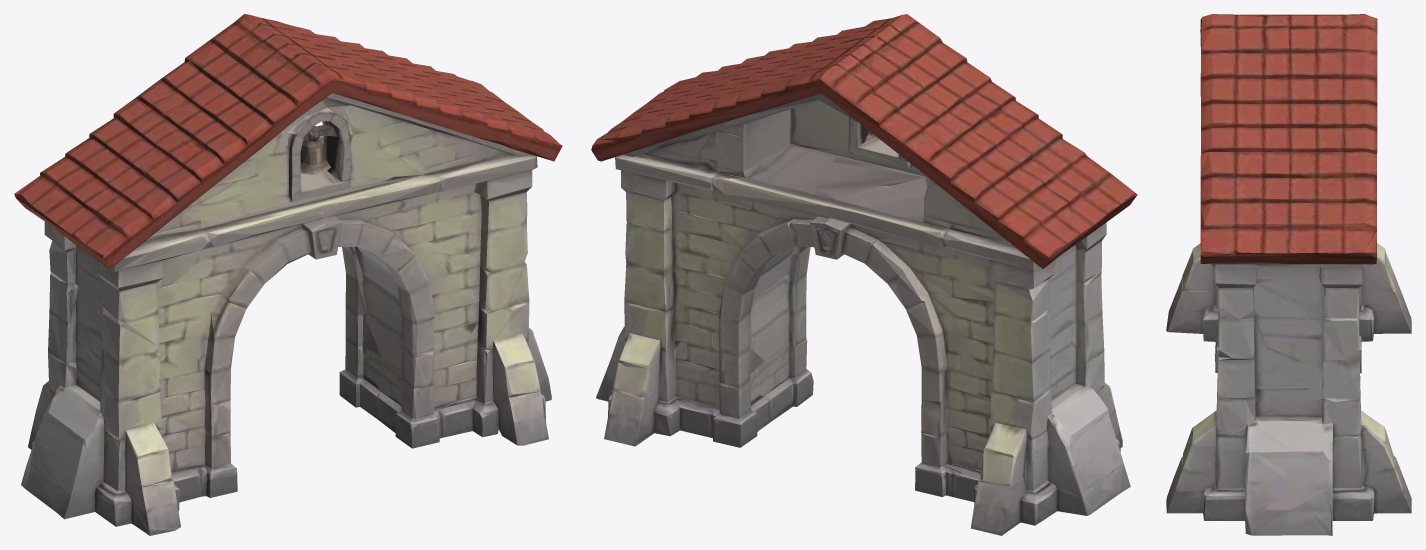
Rendered from oc_abbey_gate.glb.
The picture shows the model from 3 angles, left to right: view 1: azimuth 30°, elevation 25°; view 2: azimuth 150°, elevation 25°; view 3: azimuth 270°, elevation 25°; orthographic projection.
Visible parts, largest first — view 1: W_abbey_gate_arch; view 2: W_abbey_gate_arch; view 3: W_abbey_gate_arch.
Part boxes in pixels (x1=…): W_abbey_gate_arch: x1=14, y1=14, x2=562, y2=535; W_abbey_gate_arch: x1=591, y1=14, x2=1137, y2=535; W_abbey_gate_arch: x1=1166, y1=14, x2=1411, y2=535.
Size of the model in its own units: 11.99 by 9.33 by 5.17.
1 material, 1 textured.
